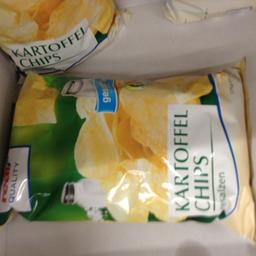chips: (1, 70, 254, 236), (0, 0, 129, 75)
